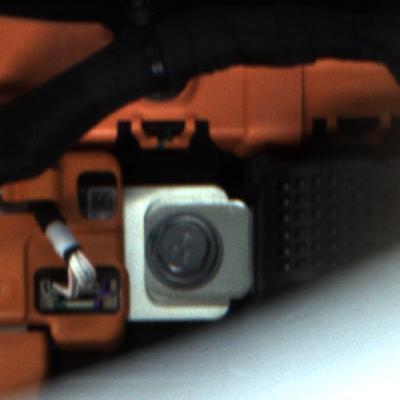nut_b: (142, 211, 222, 287)
